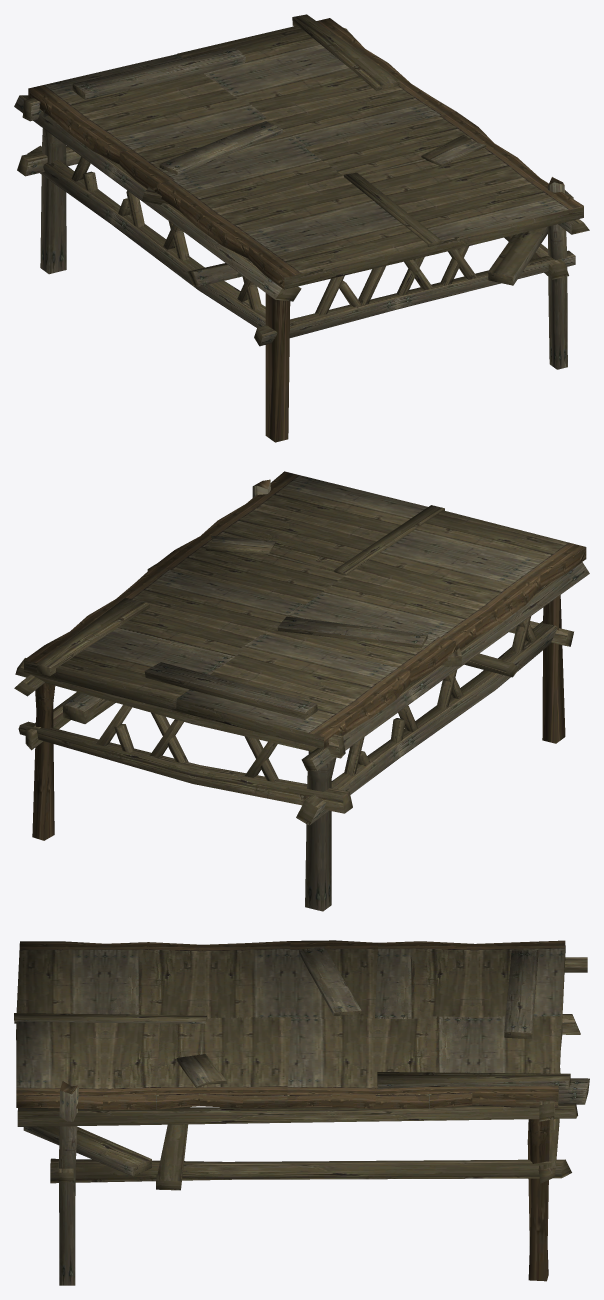
File: S_Build_Village038.FBX
The picture shows the model from 3 angles, top to bottom: view 1: azimuth 30°, elevation 25°; view 2: azimuth 150°, elevation 25°; view 3: azimuth 270°, elevation 25°; orthographic projection. The views are drawn at different scales.
Visible parts, largest first — view 1: S_Build_Village038; view 2: S_Build_Village038; view 3: S_Build_Village038.
Boxes of the visible parts, x1,y1,x2,y2 form: S_Build_Village038: (14,14,589,442); S_Build_Village038: (14,471,589,911); S_Build_Village038: (14,940,589,1285).
Size of the model in its own units: 855 by 1085 by 413.
